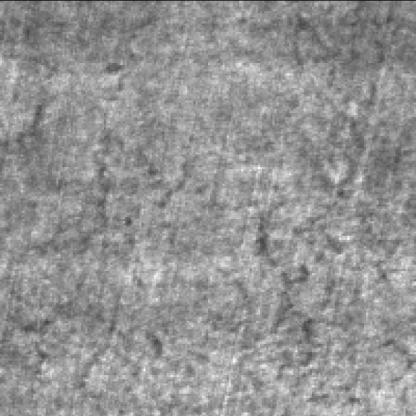crazing: (23, 135, 193, 391), (258, 97, 376, 380)
